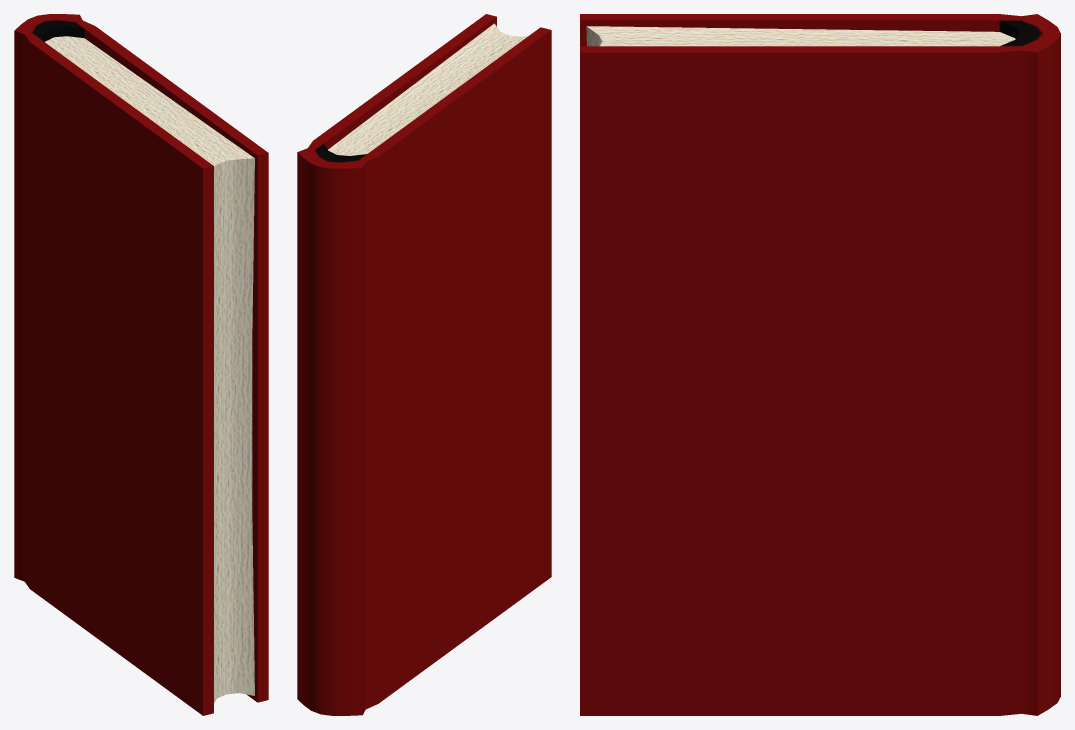
File: BookUntitled.fbx
3 renders of one model, left to right at view 1: azimuth 30°, elevation 25°; view 2: azimuth 150°, elevation 25°; view 3: azimuth 270°, elevation 25°, orthographic. The views are drawn at different scales.
Visible parts, largest first — view 1: pCube1; view 2: pCube1; view 3: pCube1.
Part boxes in pixels (x1=…): pCube1: x1=14, y1=14, x2=268, y2=715; pCube1: x1=297, y1=14, x2=551, y2=715; pCube1: x1=580, y1=14, x2=1060, y2=715.
Bounding box in the file's own units: 1 × 8 × 5.26.
Materials: 1 (1 with a texture image).
